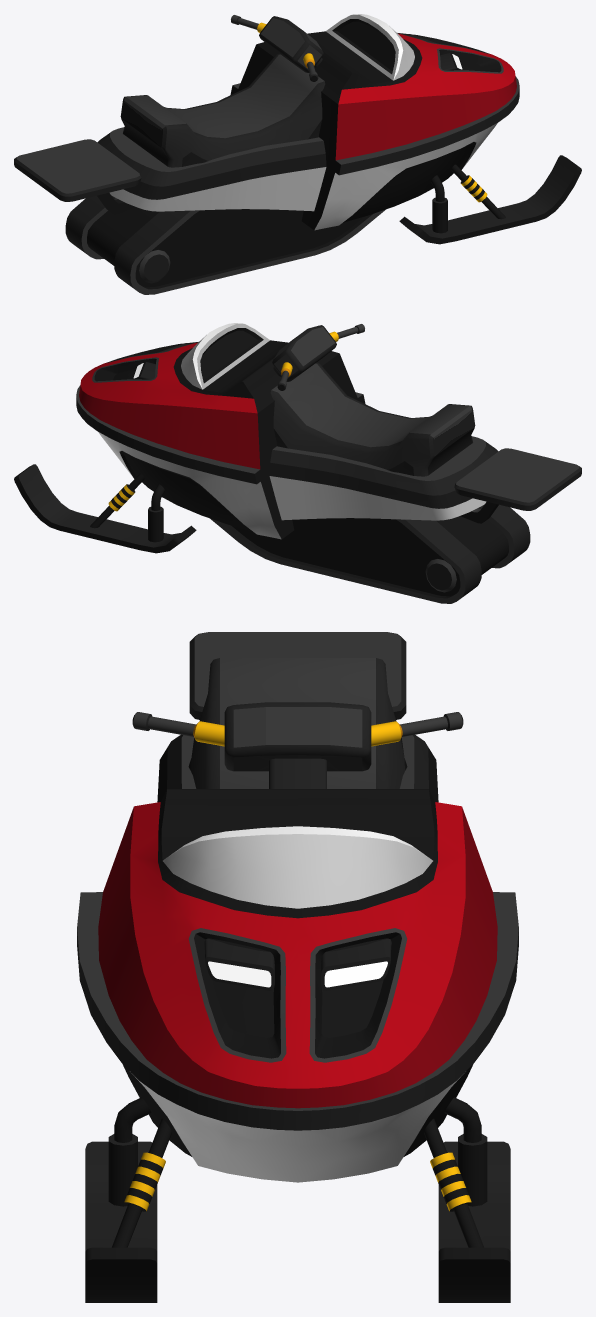
File: Bike_002.glb
3 renders of one model, top to bottom at view 1: azimuth 30°, elevation 25°; view 2: azimuth 150°, elevation 25°; view 3: azimuth 270°, elevation 25°, orthographic. The views are drawn at different scales.
Parts seen in each view (by area): view 1: Bike_002, wheel_1_Bike_002_Wheel_1R; view 2: Bike_002, wheel_0_Bike_002_Wheel_1L; view 3: Bike_002.
Part boxes in pixels (left/top/right/bottom): Bike_002: left=14, top=14, right=581, bottom=294; wheel_1_Bike_002_Wheel_1R: left=139, top=250, right=170, bottom=283; Bike_002: left=14, top=323, right=581, bottom=603; wheel_0_Bike_002_Wheel_1L: left=425, top=559, right=456, bottom=592; Bike_002: left=77, top=632, right=518, bottom=1302.
Size of the model in its own units: 3.34 by 1.32 by 1.3.
2 materials, 2 textured.
